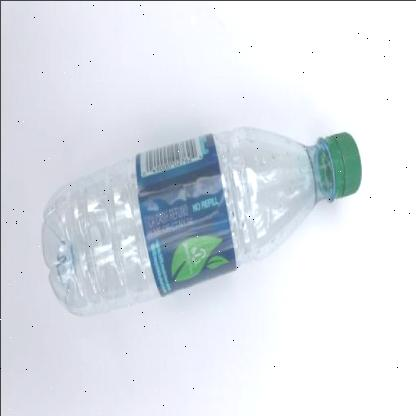Plastic Bottle: (40, 126, 361, 315)
